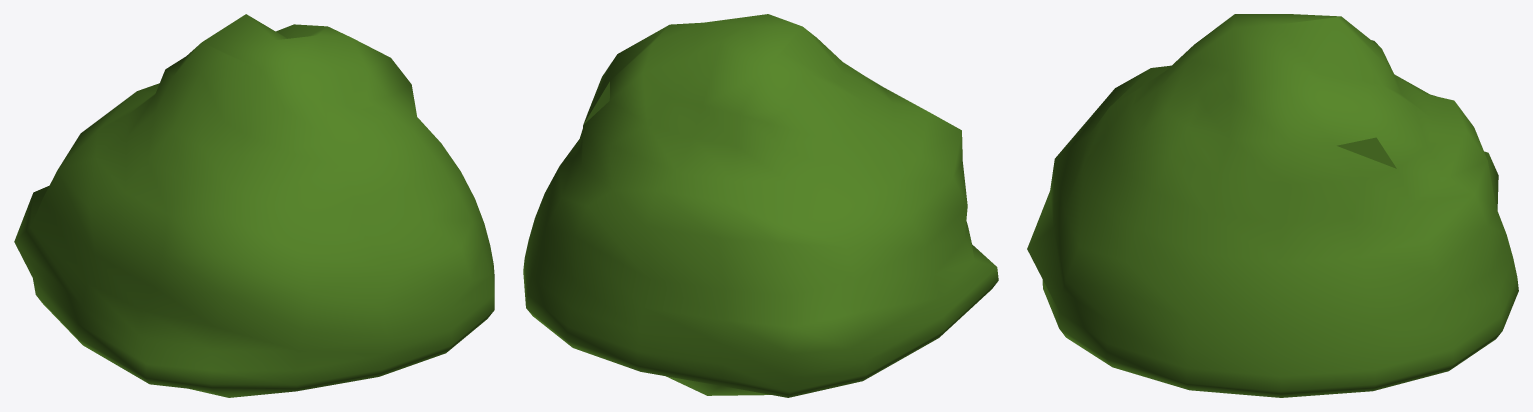
Rendered from arbusto.glb.
The picture shows the model from 3 angles, left to right: view 1: azimuth 30°, elevation 25°; view 2: azimuth 150°, elevation 25°; view 3: azimuth 270°, elevation 25°; orthographic projection. The views are drawn at different scales.
Parts seen in each view (by area): view 1: Cube; view 2: Cube; view 3: Cube.
Part boxes in pixels (x1=…): Cube: x1=14, y1=14, x2=494, y2=397; Cube: x1=523, y1=14, x2=998, y2=397; Cube: x1=1027, y1=14, x2=1518, y2=397.
Size of the model in its own units: 3.25 by 2.24 by 3.37.
